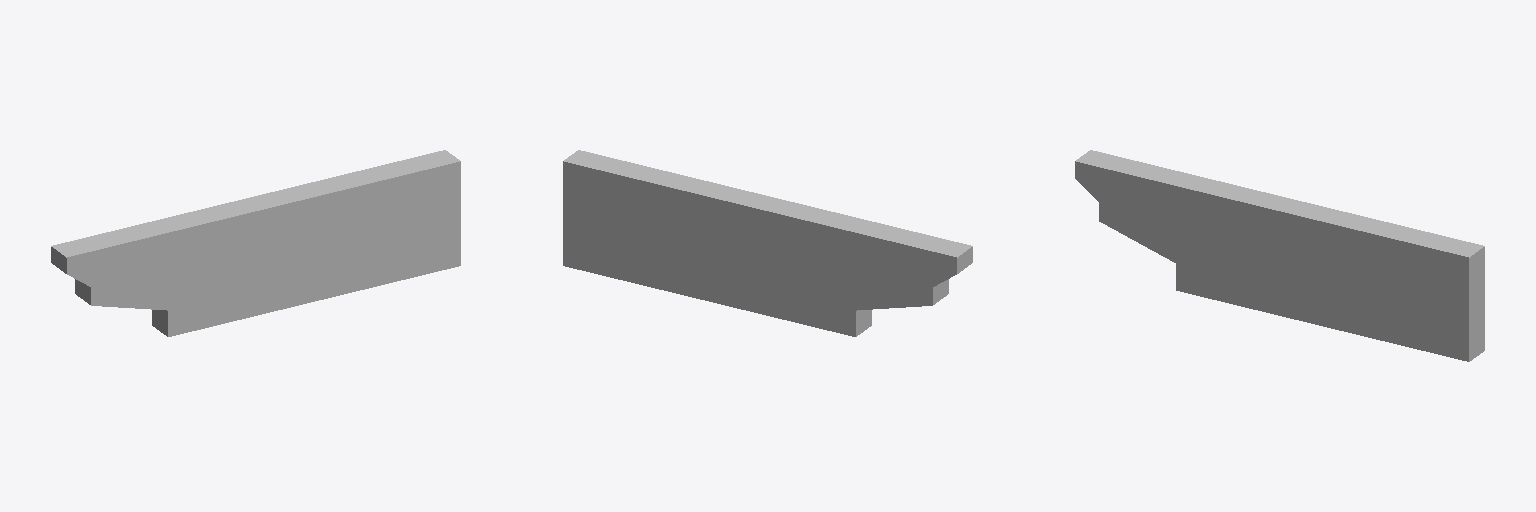
The model's file is tablon3_valla_low2.obj.
The picture shows the model from 3 angles: view 1: azimuth 30°, elevation 25°; view 2: azimuth 150°, elevation 25°; view 3: azimuth 330°, elevation 25°; orthographic projection.
Parts seen in each view (by area): view 1: initialShadingGroup tablon2_low1:pCube3; view 2: initialShadingGroup tablon2_low1:pCube3; view 3: initialShadingGroup tablon2_low1:pCube3.
Boxes of the visible parts, <box> form: initialShadingGroup tablon2_low1:pCube3: <box>51,150,460,336</box>; initialShadingGroup tablon2_low1:pCube3: <box>563,150,972,336</box>; initialShadingGroup tablon2_low1:pCube3: <box>1075,150,1484,361</box>.
Size of the model in its own units: 3.95 by 1 by 0.2724.